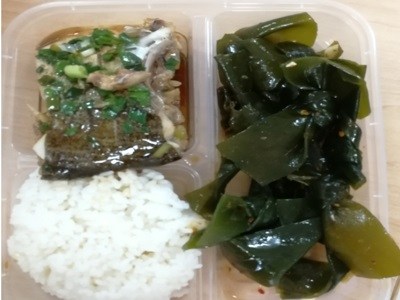hd: (226, 29, 379, 289)
rice: (17, 177, 186, 298)
yd: (30, 28, 182, 160)
